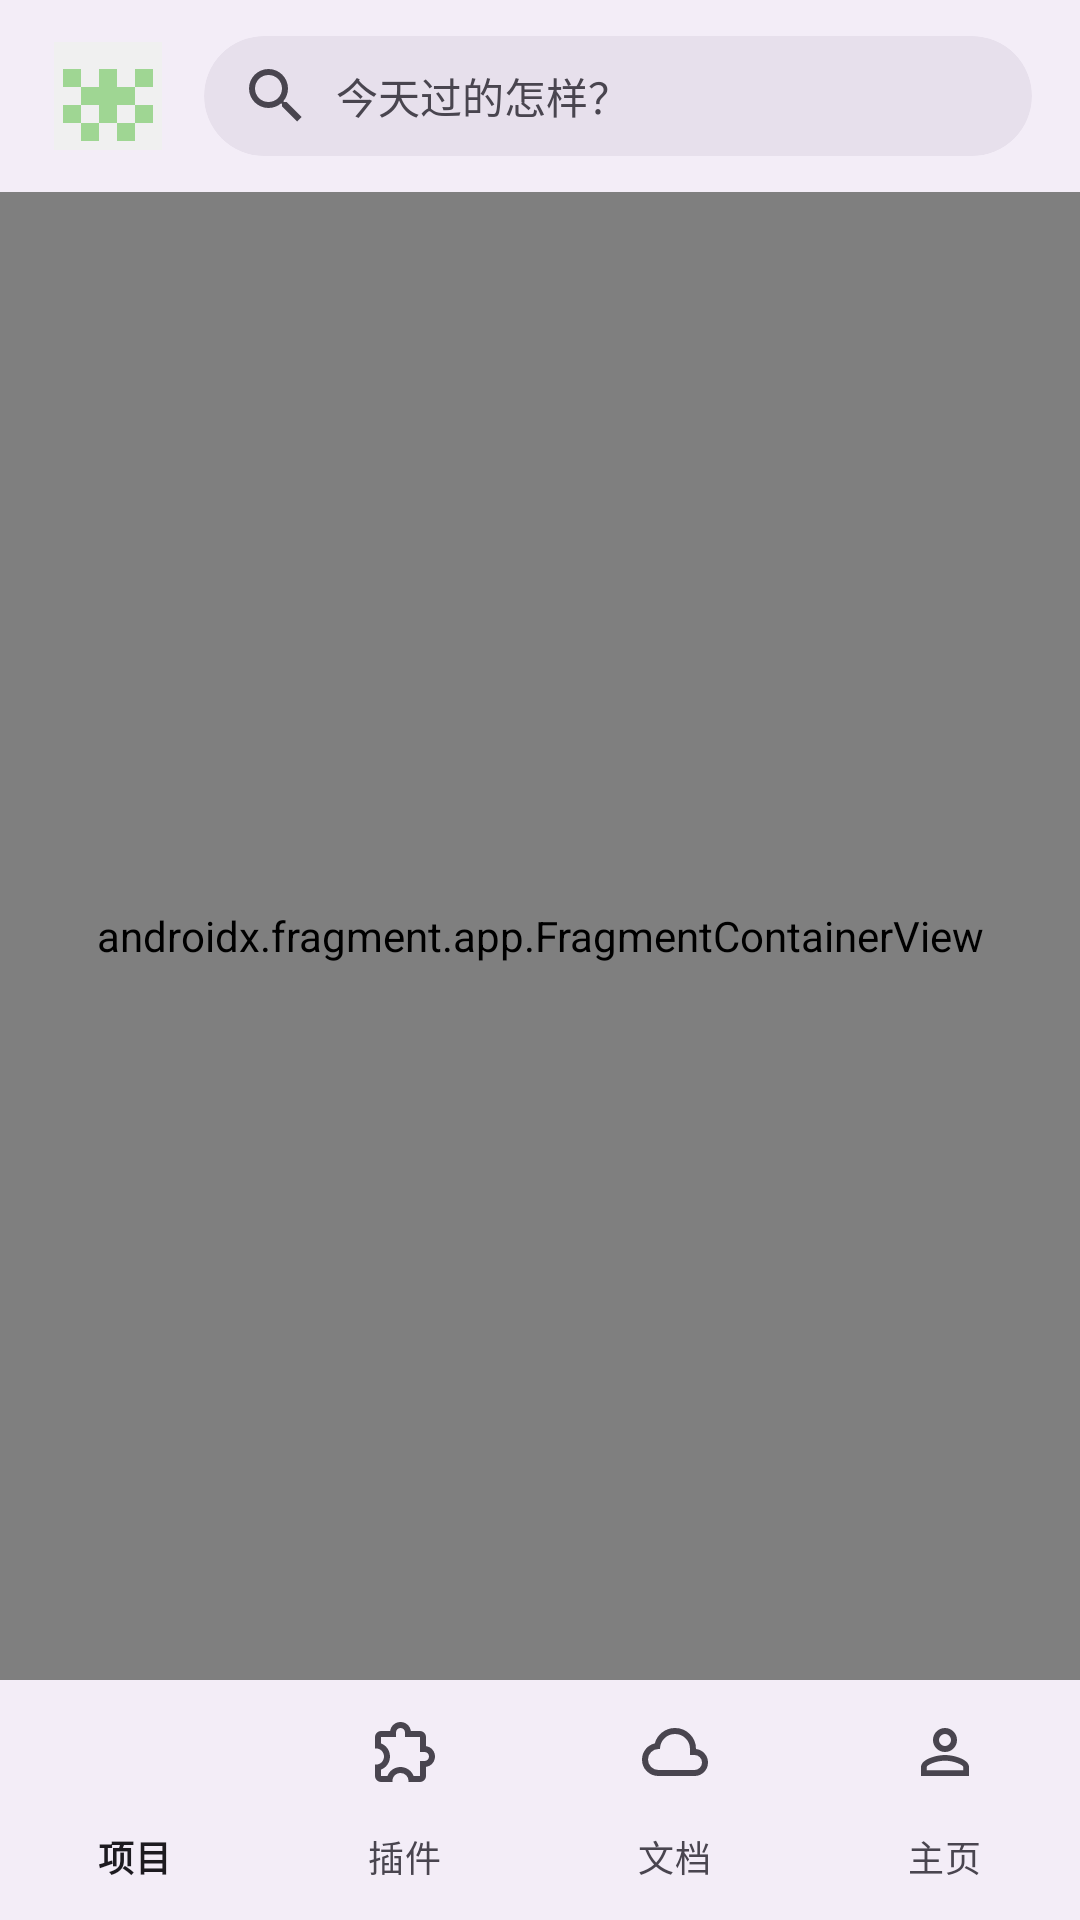

Locate icon controls on the screen. Image size 1080w x 1920h, boxes as (x1, y1, x2, y2).
搜索: (249, 69, 302, 122)
